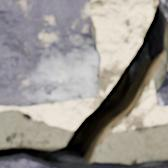brick: (0, 0, 100, 106), (0, 155, 167, 167), (156, 46, 167, 105), (159, 0, 167, 20)
crack: (0, 0, 167, 166)
